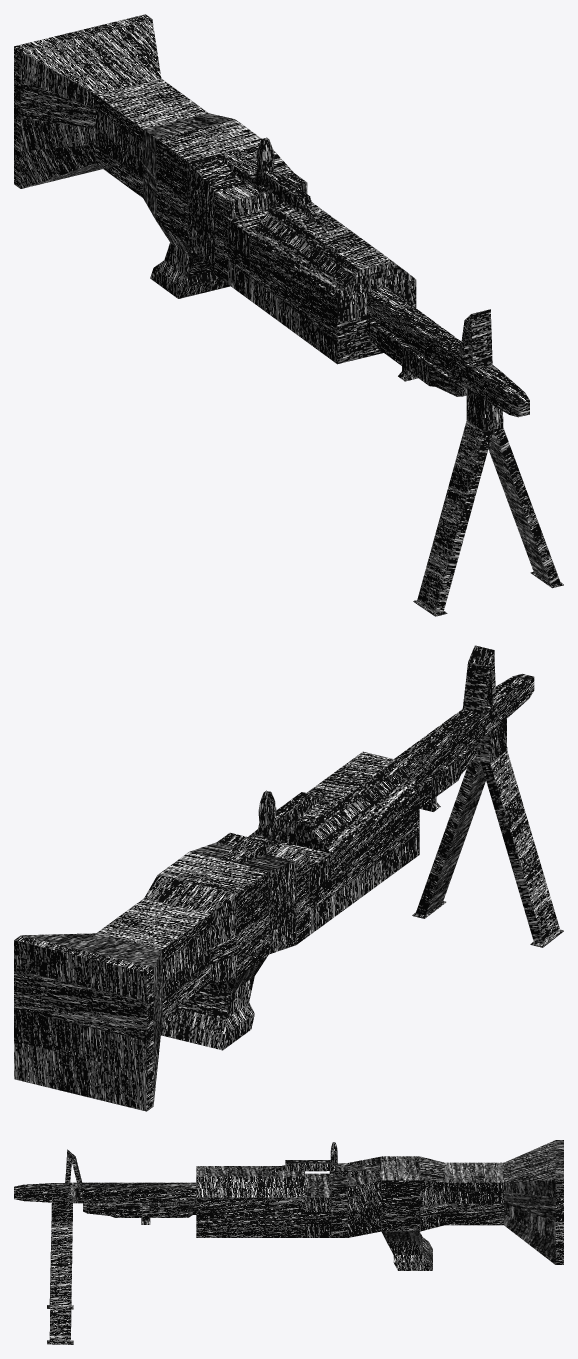
Rendered from machineGun.fbx.
The picture shows the model from 3 angles, top to bottom: view 1: azimuth 30°, elevation 25°; view 2: azimuth 150°, elevation 25°; view 3: azimuth 270°, elevation 25°; orthographic projection. The views are drawn at different scales.
Parts seen in each view (by area): view 1: M60MachineGun; view 2: M60MachineGun; view 3: M60MachineGun.
Boxes of the visible parts, x1,y1,x2,y2 form: M60MachineGun: (14,14,563,616); M60MachineGun: (14,645,563,1111); M60MachineGun: (14,1140,563,1344).
Bounding box in the file's own units: 202 × 426 × 1169.
